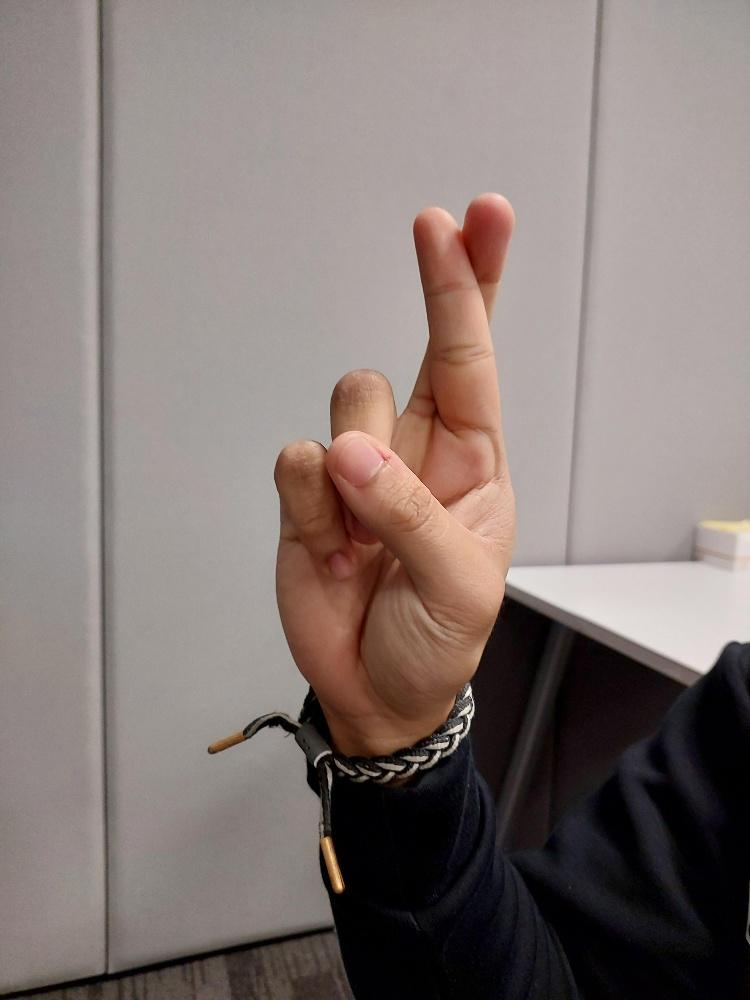r: (271, 187, 515, 712)
